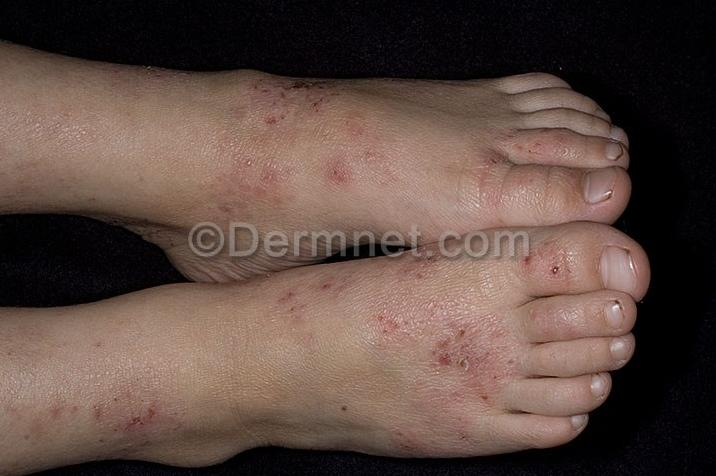excoriacion 1: (69, 396, 189, 437)
excoriacion 3: (265, 255, 512, 450), (207, 71, 369, 218)
exudacion 1: (364, 251, 493, 382), (119, 405, 155, 432)
exudacion 2: (281, 77, 343, 98)
